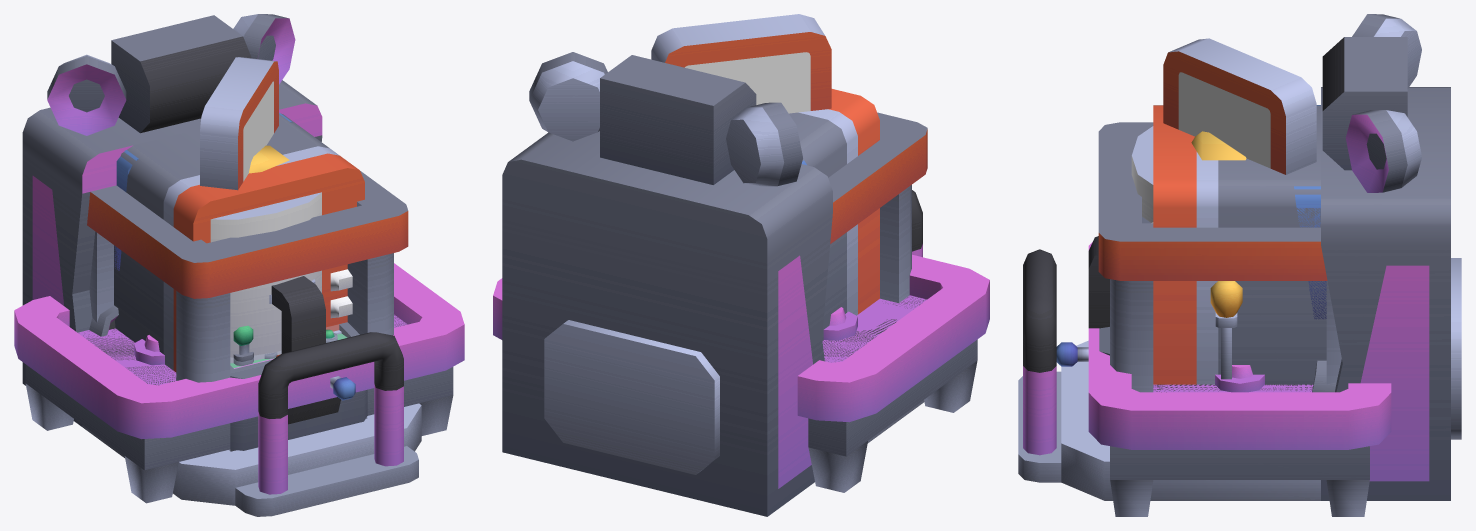
File: kit_arcade.glb
3 renders of one model, left to right at view 1: azimuth 30°, elevation 25°; view 2: azimuth 150°, elevation 25°; view 3: azimuth 270°, elevation 25°, orthographic. The views are drawn at different scales.
Visible parts, largest first — view 1: dance-machine, air-hockey, claw-machine, vending-machine, rotate-y, pinball, arcade-machine, player-b, gambling-machine, (%ignore); view 2: dance-machine, air-hockey, Group, rotate-y, claw-machine, vending-machine, player-b; view 3: dance-machine, air-hockey, vending-machine, claw-machine, rotate-y, gambling-machine, pinball, Group, player-a.
Part boxes in pixels (box(x1,y1,x2,y2)): dance-machine: box(22, 14, 421, 516); air-hockey: box(14, 263, 464, 503); claw-machine: box(87, 171, 408, 450); vending-machine: box(114, 113, 364, 372); rotate-y: box(200, 57, 278, 190); pinball: box(114, 112, 367, 451); arcade-machine: box(230, 325, 347, 368); player-b: box(134, 335, 164, 365); gambling-machine: box(248, 145, 289, 173); (%ignore): box(230, 324, 350, 368); dance-machine: box(502, 52, 924, 516); air-hockey: box(493, 254, 989, 492); Group: box(544, 320, 719, 474); rotate-y: box(651, 14, 831, 113); claw-machine: box(828, 112, 927, 303); vending-machine: box(789, 89, 879, 340); player-b: box(823, 307, 857, 340); dance-machine: box(1018, 14, 1450, 500); air-hockey: box(1088, 236, 1391, 516); vending-machine: box(1131, 105, 1326, 384); claw-machine: box(1098, 122, 1341, 392); rotate-y: box(1163, 38, 1316, 174); gambling-machine: box(1191, 131, 1246, 379); pinball: box(1056, 105, 1326, 366); Group: box(1451, 258, 1461, 439); player-a: box(1215, 365, 1264, 392).
Size of the model in its own units: 1 by 0.95 by 1.02.
Materials: 2 (1 with a texture image).
